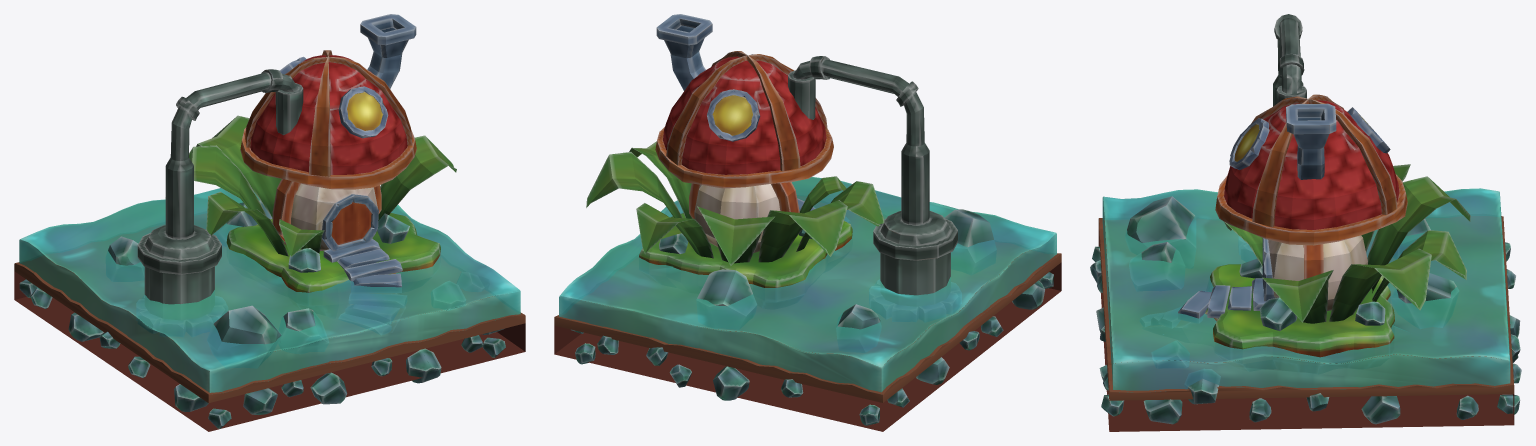
The model's file is mushroom-water-house-677787.glb.
The picture shows the model from 3 angles, left to right: view 1: azimuth 30°, elevation 25°; view 2: azimuth 150°, elevation 25°; view 3: azimuth 270°, elevation 25°; orthographic projection. The views are drawn at different scales.
Parts seen in each view (by area): view 1: PropMesh; view 2: PropMesh; view 3: PropMesh.
Boxes of the visible parts, x1,y1,x2,y2 form: PropMesh: (14, 14, 525, 431); PropMesh: (554, 14, 1061, 431); PropMesh: (1090, 14, 1521, 431).
Bounding box in the file's own units: 1.6 × 1.2 × 1.55.
4 materials, 2 textured.
